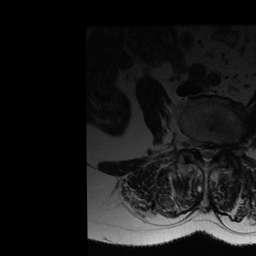CCS_stenosis: (203, 141, 211, 171)
LFS_severe_stenosis: (220, 139, 228, 157)
LLS_stenosis: (211, 143, 219, 163)
RFS_normal: (188, 132, 197, 156)
RLS_stenosis: (197, 141, 204, 164)
